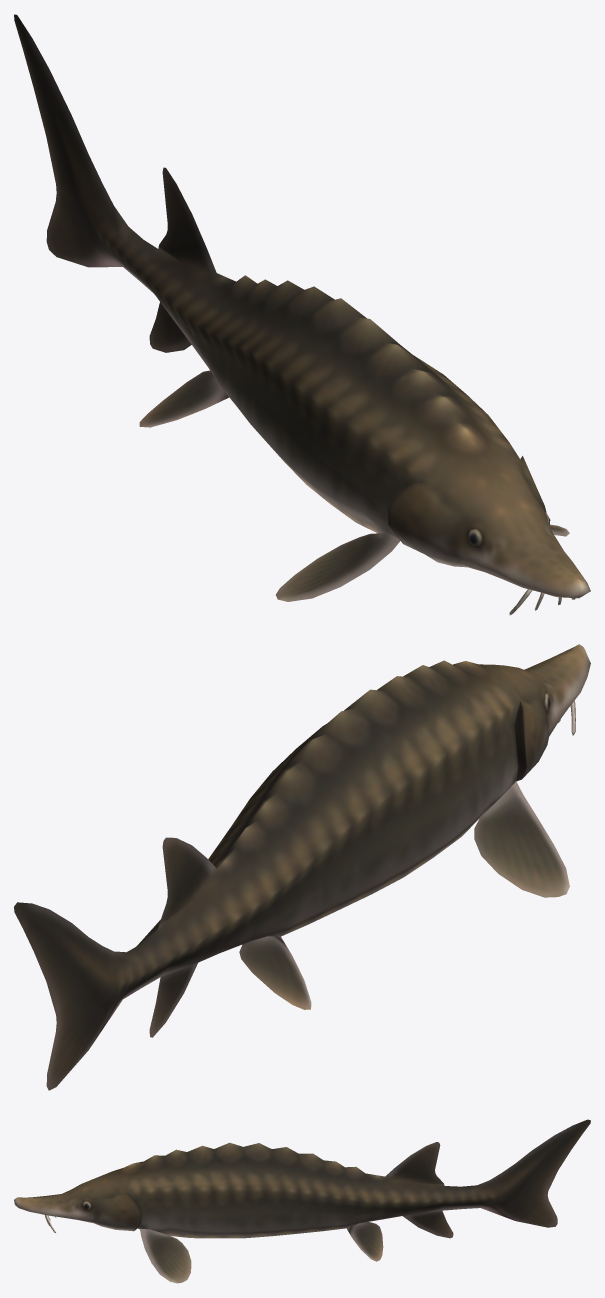
The model's file is sturgeon.glb.
3 renders of one model, top to bottom at view 1: azimuth 30°, elevation 25°; view 2: azimuth 150°, elevation 25°; view 3: azimuth 270°, elevation 25°, orthographic. The views are drawn at different scales.
Parts seen in each view (by area): view 1: FishTyouzame__mTyouzame; view 2: FishTyouzame__mTyouzame; view 3: FishTyouzame__mTyouzame.
Boxes of the visible parts, x1,y1,x2,y2 form: FishTyouzame__mTyouzame: [14, 14, 590, 615]; FishTyouzame__mTyouzame: [14, 644, 590, 1090]; FishTyouzame__mTyouzame: [14, 1119, 590, 1283].
Size of the model in its own units: 6.96 by 5.83 by 23.76.
Materials: 1 (1 with a texture image).
